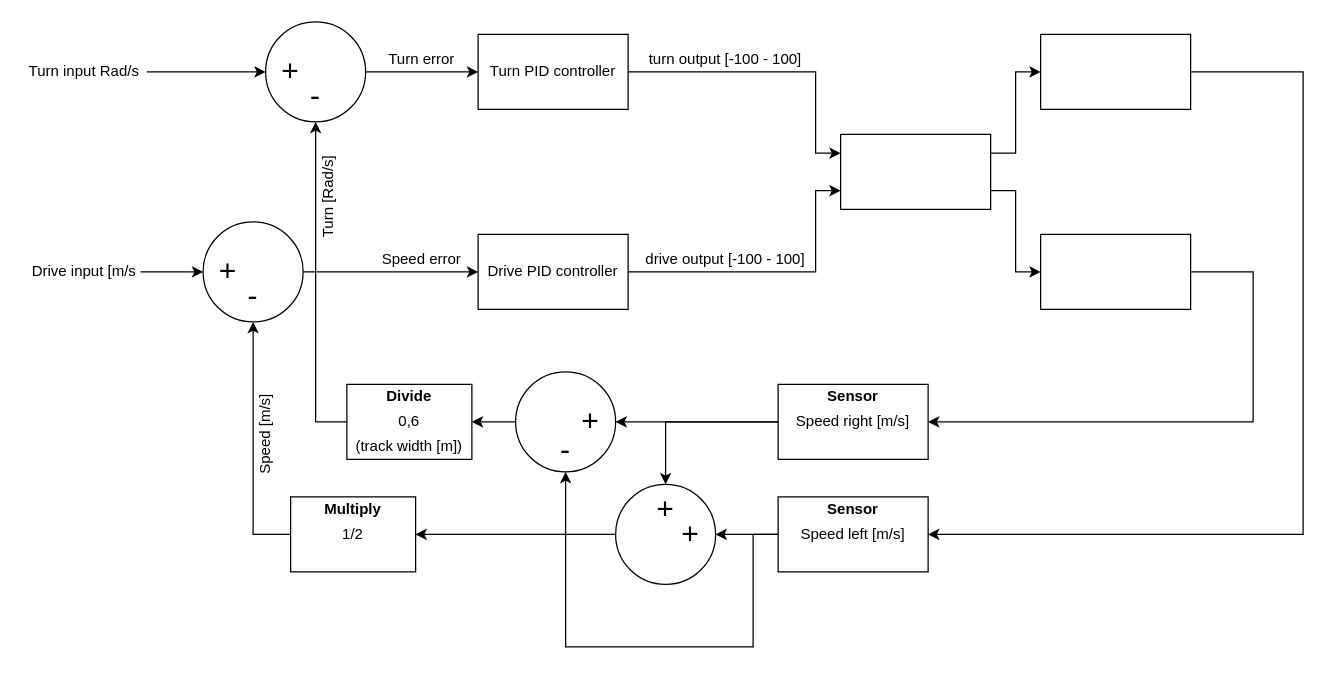
Some shapes in this 1335 by 679 pixel diagram are drawn without their labels. Each missing label, with the centre of its shape:
"Mobility scooter system" goes at (x=915, y=171).
"Motor left" goes at (x=1115, y=71).
"Motor right" goes at (x=1115, y=271).
